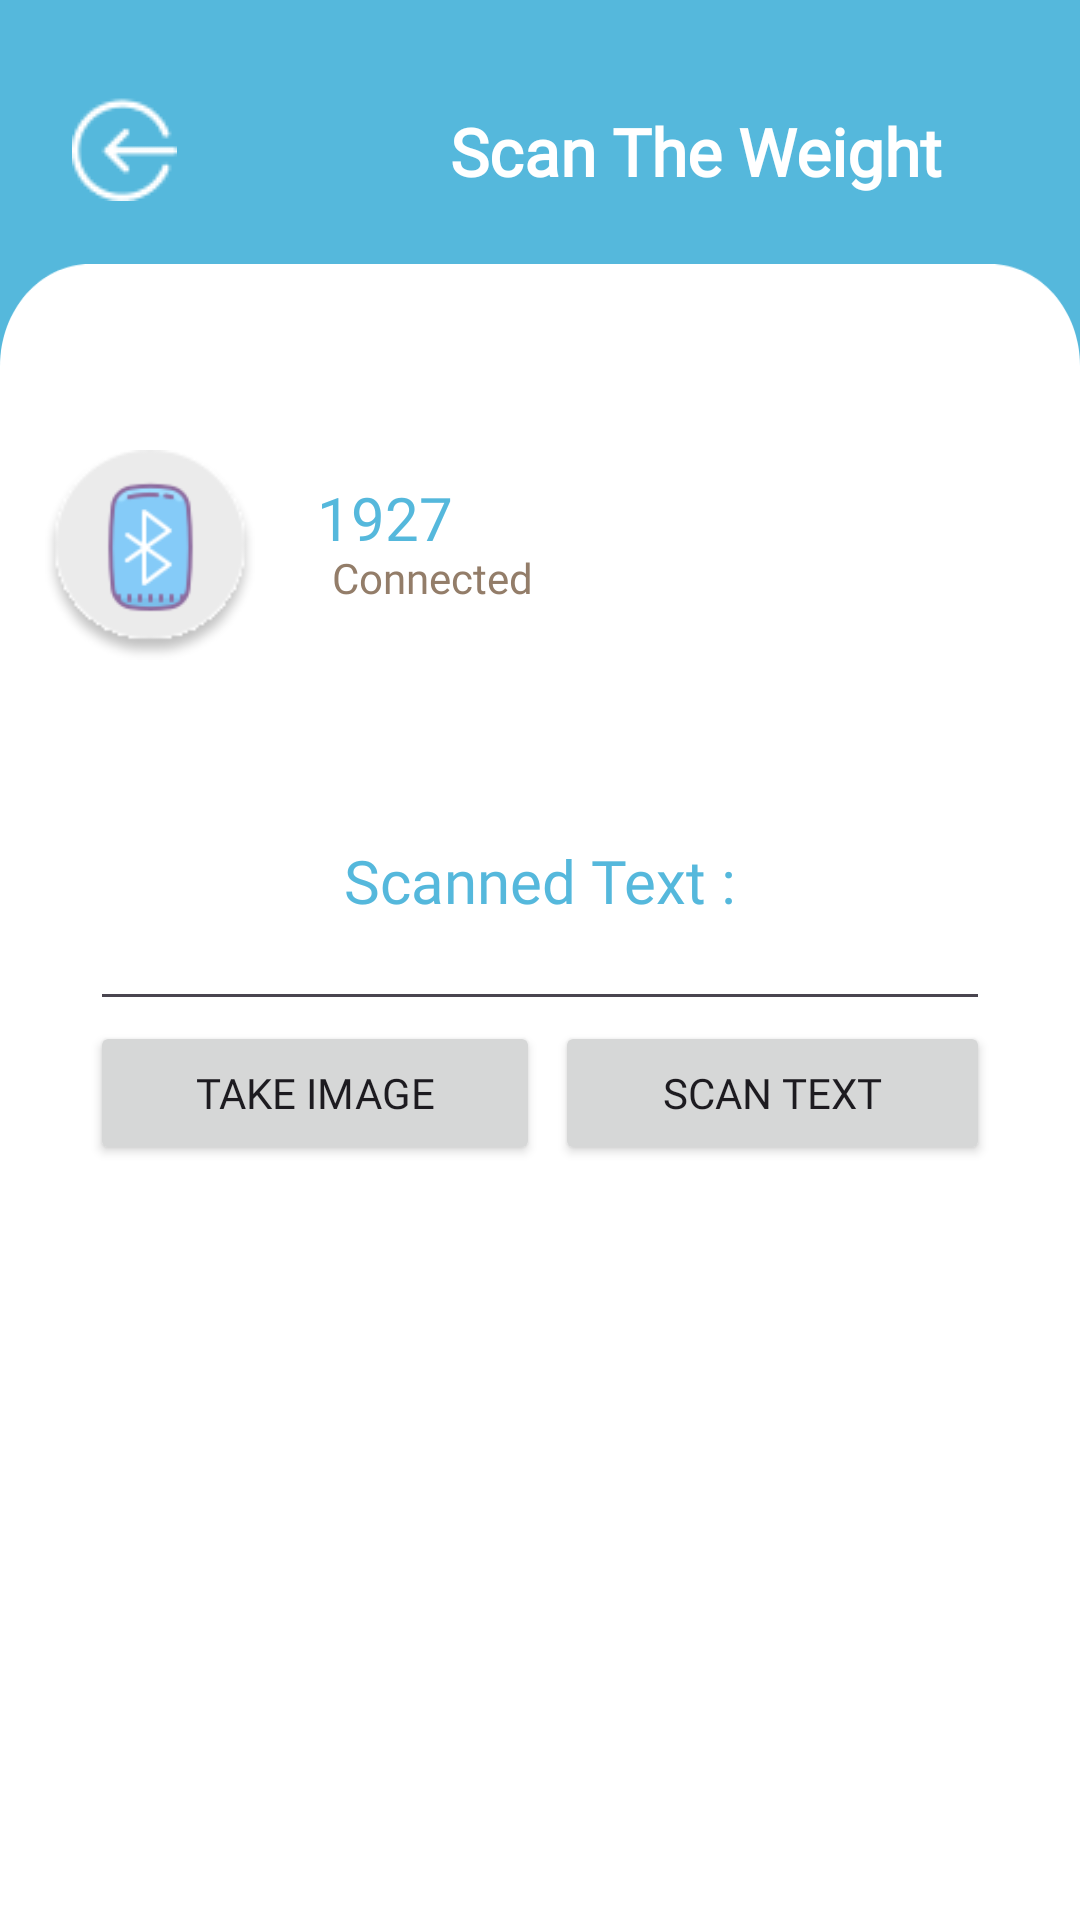

Named icons in this screenshot (1080px x 1920px) and their centers, (x,y):
enter: (124,149)
